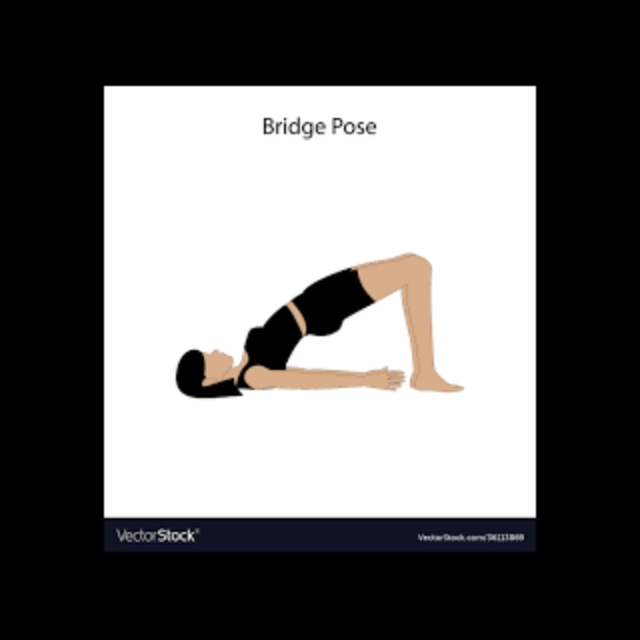Bridge_Pose: (172, 249, 481, 410)
